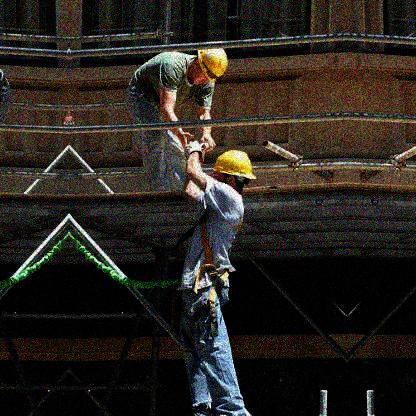helmet: (212, 147, 258, 193), (185, 45, 231, 85)
